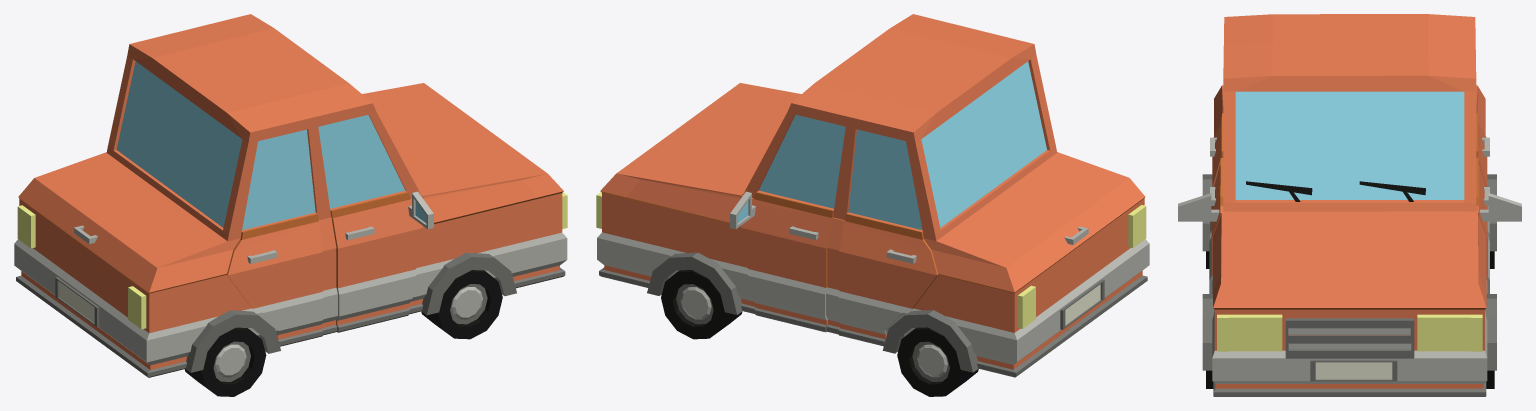
File: CarOrange.fbx
3 renders of one model, left to right at view 1: azimuth 30°, elevation 25°; view 2: azimuth 150°, elevation 25°; view 3: azimuth 270°, elevation 25°, orthographic. The views are drawn at different scales.
Parts seen in each view (by area): view 1: Cube.8231; view 2: Cube.8231; view 3: Cube.8231.
Boxes of the visible parts, left/top/right/bottom form: Cube.8231: left=14, top=14, right=567, bottom=396; Cube.8231: left=596, top=14, right=1149, bottom=396; Cube.8231: left=1178, top=14, right=1521, bottom=396.
Bounding box in the file's own units: 482 × 276 × 325.
1 material, 1 textured.
